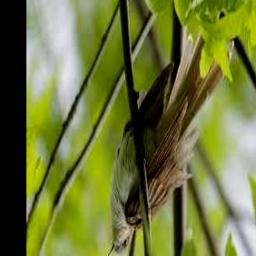Cuckoo: (106, 34, 234, 256)
